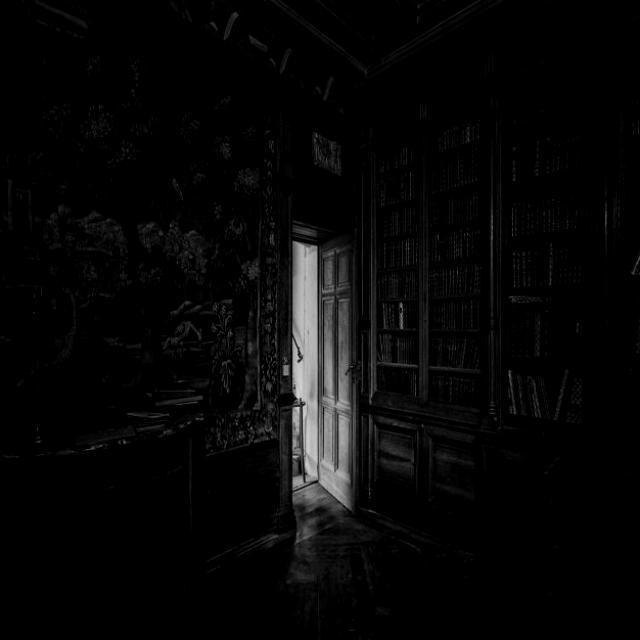door: (316, 233, 357, 512)
